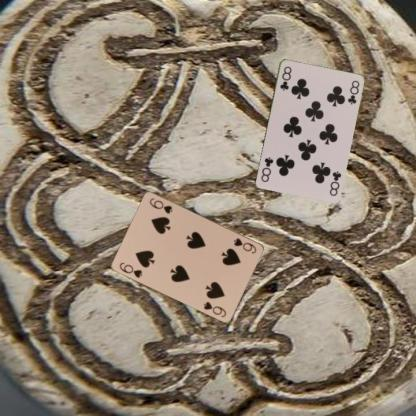6s: (231, 235, 258, 255), (118, 259, 144, 279)
8c: (327, 168, 342, 197), (278, 63, 292, 92)
